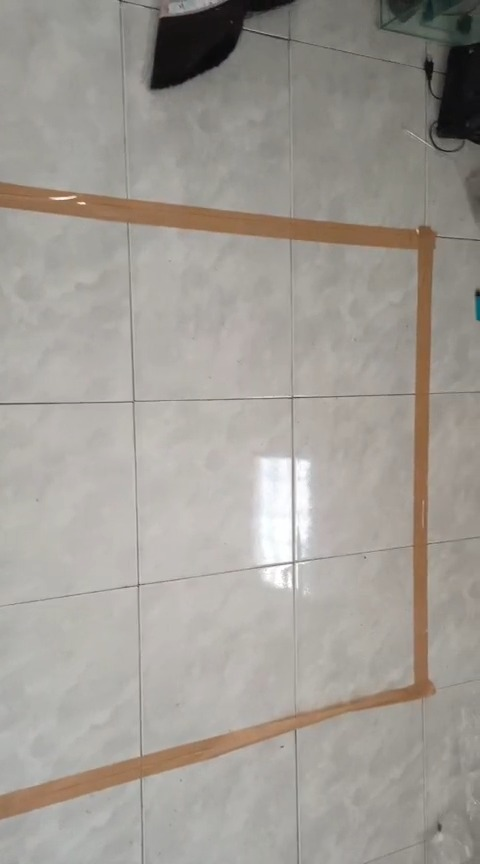floor marking: (0, 183, 435, 819)
